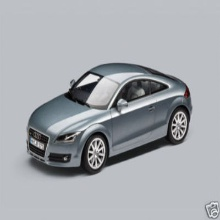no damage: (25, 62, 192, 175)
